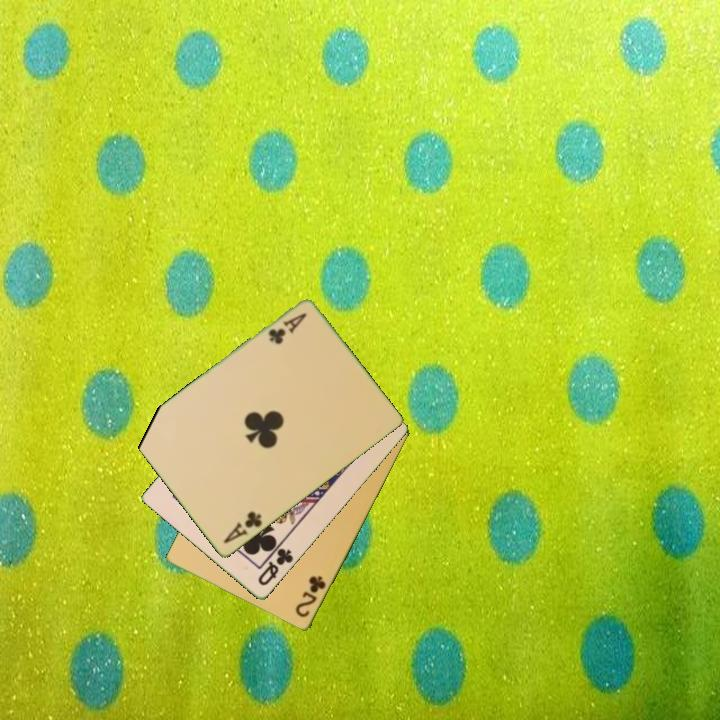2c: (292, 572, 329, 621)
Ac: (220, 508, 265, 547), (265, 310, 310, 348)
Qc: (254, 540, 296, 589)
